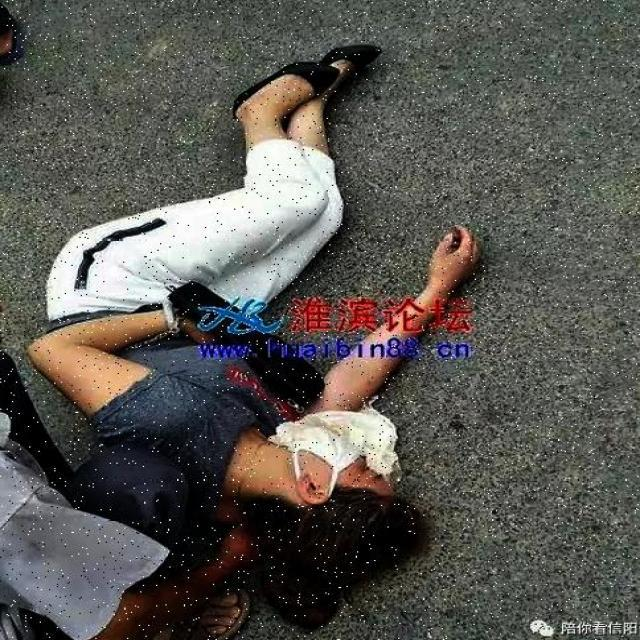fall: (76, 40, 412, 596)
